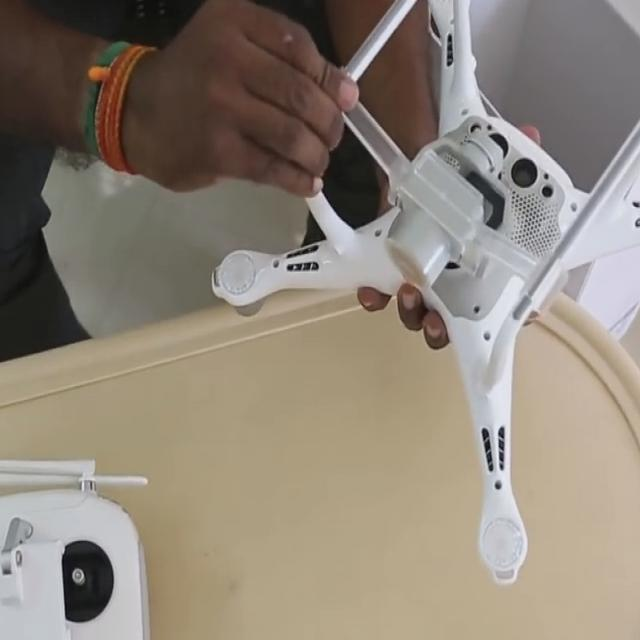drone: (214, 0, 640, 587)
